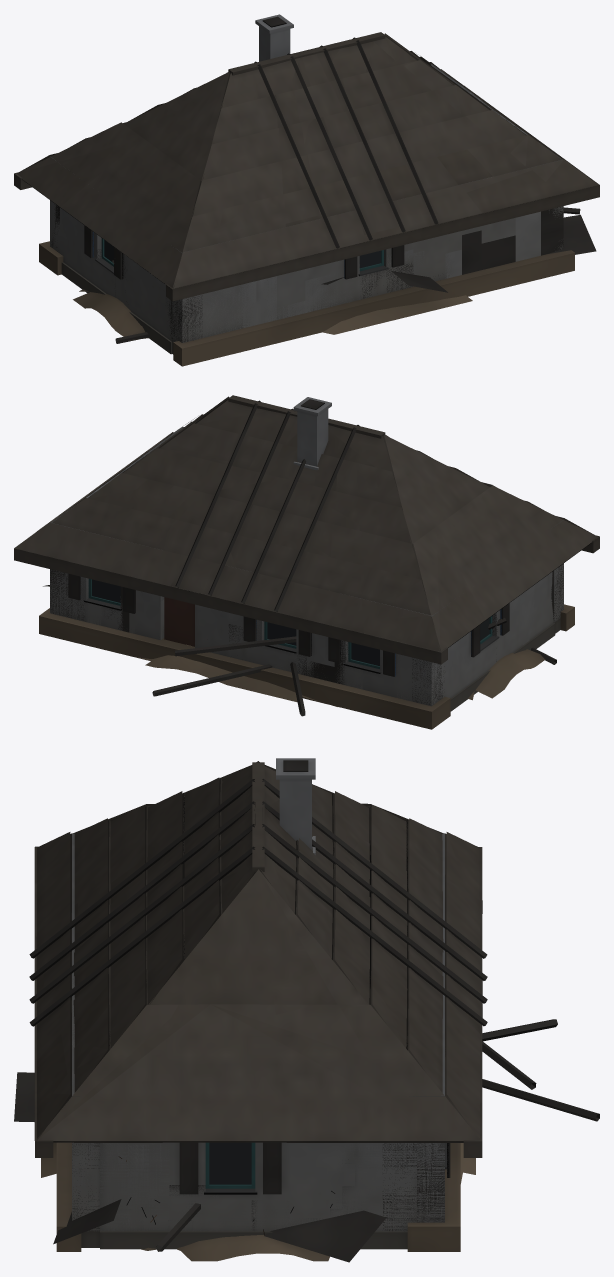
Rendered from ph_khata.glb.
The picture shows the model from 3 angles, top to bottom: view 1: azimuth 30°, elevation 25°; view 2: azimuth 150°, elevation 25°; view 3: azimuth 270°, elevation 25°; orthographic projection. The views are drawn at different scales.
Visible parts, largest first — view 1: khata_s0, khata_s1f, khata_s1g, khata_sruin, khata_s2; view 2: khata_s0, khata_s1f, khata_sruin, khata_s1g, khata_s2; view 3: khata_s0, khata_s1g, khata_s1f, khata_sruin, khata_s2.
Part boxes in pixels (x1,y1,x2,y2): khata_s0: (14, 14, 599, 366); khata_s1f: (17, 37, 598, 284); khata_s1g: (88, 34, 549, 288); khata_sruin: (50, 204, 596, 352); khata_s2: (91, 38, 563, 276); khata_s0: (14, 395, 599, 729); khata_s1f: (16, 400, 568, 657); khata_sruin: (43, 461, 563, 716); khata_s1g: (39, 397, 434, 676); khata_s2: (52, 400, 597, 656); khata_s0: (34, 758, 482, 1251); khata_s1g: (34, 791, 482, 1194); khata_s1f: (29, 766, 487, 1194); khata_sruin: (14, 836, 599, 1262); khata_s2: (34, 765, 468, 1235).
Size of the model in its own units: 12.03 by 6.08 by 9.43.
1 material, 1 textured.
